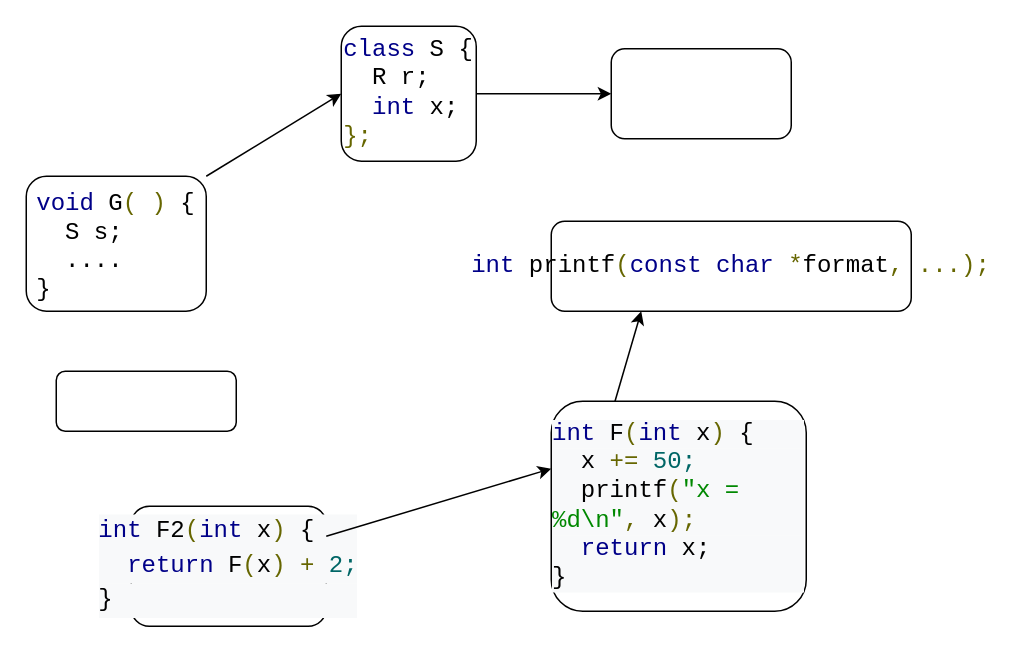
This 1017x653 diagram has some shape labels left out. Here are the shapes that lost their labels. From the top down, the box of each, then its label:
(610, 47, 791, 139): struct R {...};
(55, 370, 236, 431): void P ( ) { ... }
